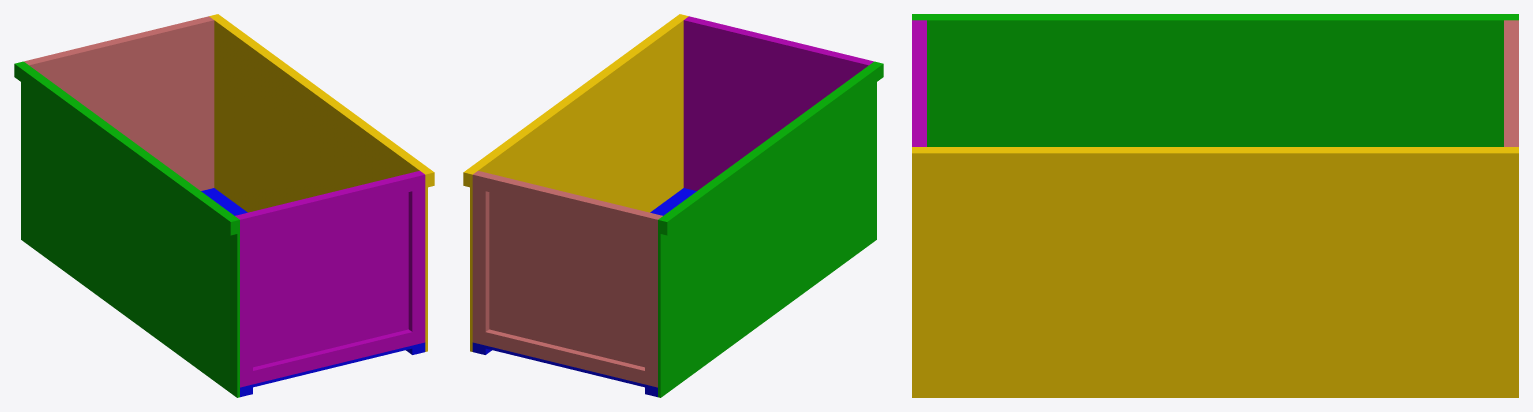
Rendered from result.glb.
The picture shows the model from 3 angles, left to right: view 1: azimuth 30°, elevation 25°; view 2: azimuth 150°, elevation 25°; view 3: azimuth 270°, elevation 25°; orthographic projection. The views are drawn at different scales.
Visible parts, largest first — view 1: b24867ef-aec4-4c39-b87f-02dc5b8a3971__Box_6, 3a8476bb-aff9-47b7-8ebb-c3328c8c887a__Box_3, ce5c5ec6-cbc3-4f7a-ad36-a402ef87c5bb__undefined, b0d463b4-0f21-40f7-be0d-b1e26bc571be__undefined, 5622ff9d-99b8-4aaf-a37c-411be9fe148d__Box_7, f0b27779-f790-467e-a44e-5eadcd5ca11d__undefined, 199df33e-5303-4948-9491-bad3734636ff__undefined, ff65b026-c3ad-43c1-88b3-cdb5bb3b9821__Box_5, cbca0a9d-c3b1-4a87-819d-350772f2d024__Box_4, 5c4c8f01-4395-489d-acdc-215f719a143a__undefined, 54e384de-412e-422e-8d1f-6d56f3ea0bf5__Box, da45096d-3ea7-4e27-b3a9-e6d75e9b9fa3__undefined; view 2: b24867ef-aec4-4c39-b87f-02dc5b8a3971__Box_6, b0d463b4-0f21-40f7-be0d-b1e26bc571be__undefined, ce5c5ec6-cbc3-4f7a-ad36-a402ef87c5bb__undefined, 3a8476bb-aff9-47b7-8ebb-c3328c8c887a__Box_3, 5622ff9d-99b8-4aaf-a37c-411be9fe148d__Box_7, bf9a7429-8d3f-4154-9f29-6b59b3c96733__undefined, da45096d-3ea7-4e27-b3a9-e6d75e9b9fa3__undefined, bfbd90b0-e3aa-4cf8-a091-c939111b6fd4__undefined, ae4d112e-1a38-4c8f-8985-b283637c6053__undefined, 5c4c8f01-4395-489d-acdc-215f719a143a__undefined, 54e384de-412e-422e-8d1f-6d56f3ea0bf5__Box, 199df33e-5303-4948-9491-bad3734636ff__undefined; view 3: ce5c5ec6-cbc3-4f7a-ad36-a402ef87c5bb__undefined, b24867ef-aec4-4c39-b87f-02dc5b8a3971__Box_6, 5c4c8f01-4395-489d-acdc-215f719a143a__undefined, 5622ff9d-99b8-4aaf-a37c-411be9fe148d__Box_7, 199df33e-5303-4948-9491-bad3734636ff__undefined, da45096d-3ea7-4e27-b3a9-e6d75e9b9fa3__undefined, 3a8476bb-aff9-47b7-8ebb-c3328c8c887a__Box_3, b0d463b4-0f21-40f7-be0d-b1e26bc571be__undefined.
Part boxes in pixels (x1,y1,x2,y2): b24867ef-aec4-4c39-b87f-02dc5b8a3971__Box_6: (21, 61, 239, 397); 3a8476bb-aff9-47b7-8ebb-c3328c8c887a__Box_3: (235, 171, 420, 367); ce5c5ec6-cbc3-4f7a-ad36-a402ef87c5bb__undefined: (209, 15, 427, 351); b0d463b4-0f21-40f7-be0d-b1e26bc571be__undefined: (27, 19, 214, 190); 5622ff9d-99b8-4aaf-a37c-411be9fe148d__Box_7: (14, 62, 237, 235); f0b27779-f790-467e-a44e-5eadcd5ca11d__undefined: (408, 172, 425, 345); 199df33e-5303-4948-9491-bad3734636ff__undefined: (249, 175, 412, 229); ff65b026-c3ad-43c1-88b3-cdb5bb3b9821__Box_5: (253, 329, 412, 384); cbca0a9d-c3b1-4a87-819d-350772f2d024__Box_4: (236, 214, 252, 387); 5c4c8f01-4395-489d-acdc-215f719a143a__undefined: (212, 14, 434, 187); 54e384de-412e-422e-8d1f-6d56f3ea0bf5__Box: (201, 188, 425, 390); da45096d-3ea7-4e27-b3a9-e6d75e9b9fa3__undefined: (37, 19, 199, 60); b24867ef-aec4-4c39-b87f-02dc5b8a3971__Box_6: (658, 61, 876, 397); b0d463b4-0f21-40f7-be0d-b1e26bc571be__undefined: (477, 171, 662, 367); ce5c5ec6-cbc3-4f7a-ad36-a402ef87c5bb__undefined: (470, 15, 688, 351); 3a8476bb-aff9-47b7-8ebb-c3328c8c887a__Box_3: (683, 19, 870, 190); 5622ff9d-99b8-4aaf-a37c-411be9fe148d__Box_7: (660, 62, 883, 235); bf9a7429-8d3f-4154-9f29-6b59b3c96733__undefined: (472, 172, 489, 345); da45096d-3ea7-4e27-b3a9-e6d75e9b9fa3__undefined: (485, 175, 648, 229); bfbd90b0-e3aa-4cf8-a091-c939111b6fd4__undefined: (485, 329, 644, 384); ae4d112e-1a38-4c8f-8985-b283637c6053__undefined: (645, 214, 661, 387); 5c4c8f01-4395-489d-acdc-215f719a143a__undefined: (463, 14, 685, 187); 54e384de-412e-422e-8d1f-6d56f3ea0bf5__Box: (472, 188, 696, 390); 199df33e-5303-4948-9491-bad3734636ff__undefined: (698, 19, 860, 60); ce5c5ec6-cbc3-4f7a-ad36-a402ef87c5bb__undefined: (912, 147, 1518, 397); b24867ef-aec4-4c39-b87f-02dc5b8a3971__Box_6: (912, 18, 1518, 146); 5c4c8f01-4395-489d-acdc-215f719a143a__undefined: (912, 149, 1518, 172); 5622ff9d-99b8-4aaf-a37c-411be9fe148d__Box_7: (912, 14, 1518, 18); 199df33e-5303-4948-9491-bad3734636ff__undefined: (912, 29, 922, 138); da45096d-3ea7-4e27-b3a9-e6d75e9b9fa3__undefined: (1508, 29, 1518, 138); 3a8476bb-aff9-47b7-8ebb-c3328c8c887a__Box_3: (922, 20, 926, 146); b0d463b4-0f21-40f7-be0d-b1e26bc571be__undefined: (1504, 20, 1508, 146).
Bounding box in the file's own units: 572 × 476 × 1052.
